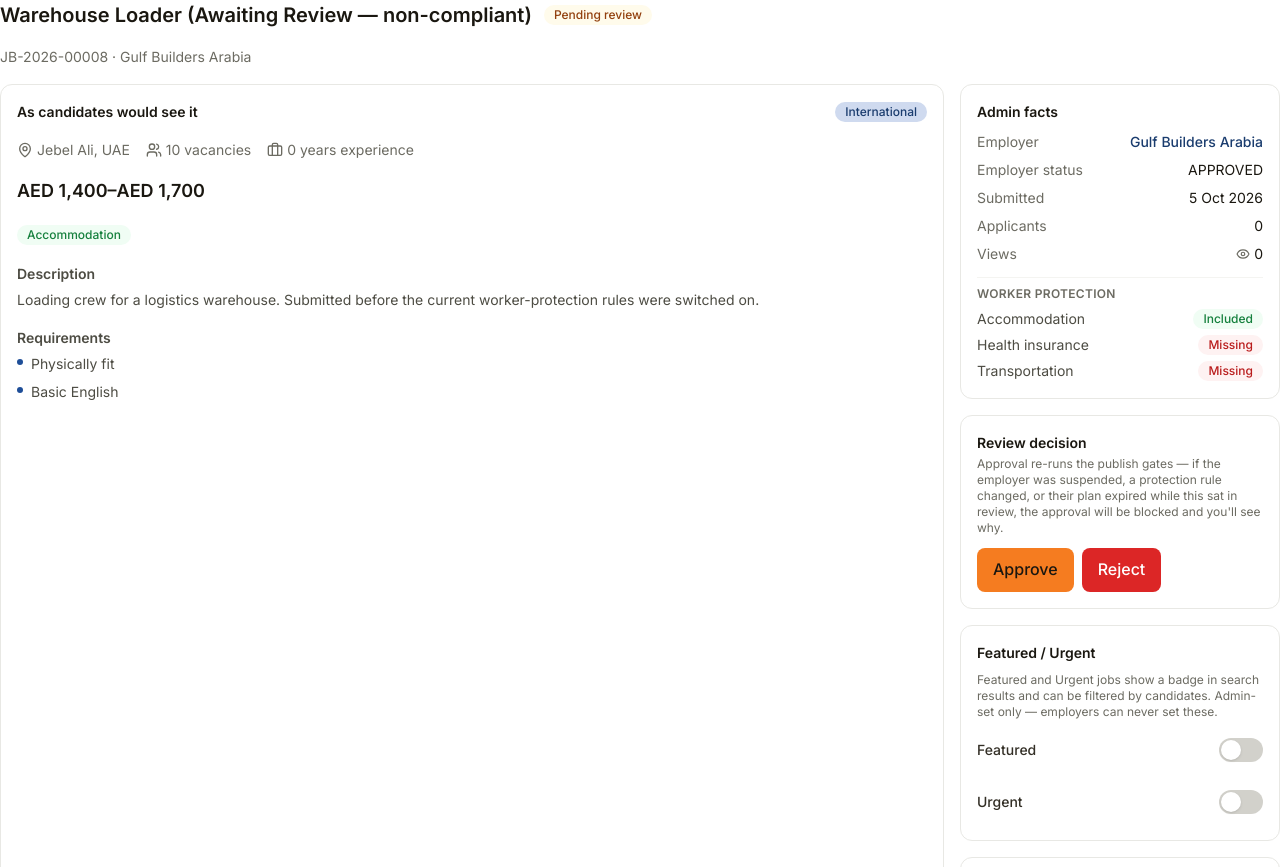
GateFailureExplainer — the three honest failures › WORKER_PROTECTION_VIOLATION → the failing RULES NAMED from meta + the inline Reject remedy
expect the heading "Warehouse Loader (Awaiting Review — non-compliant)" is shown: met, box [0, 0, 532, 30]
Click the button "Approve" at [1025, 570], box [977, 548, 1074, 592]
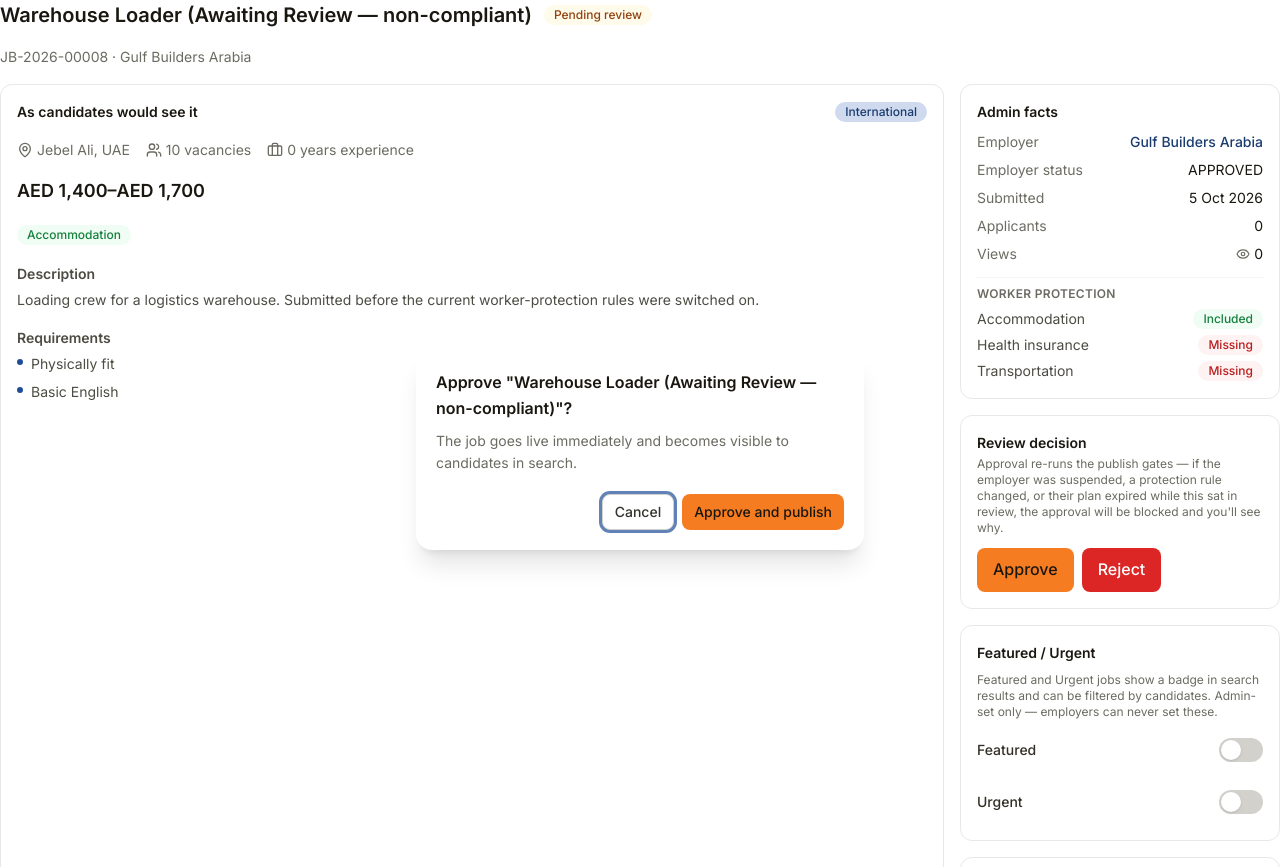
Click the button "Approve and publish" at [763, 512], box [682, 494, 844, 530]
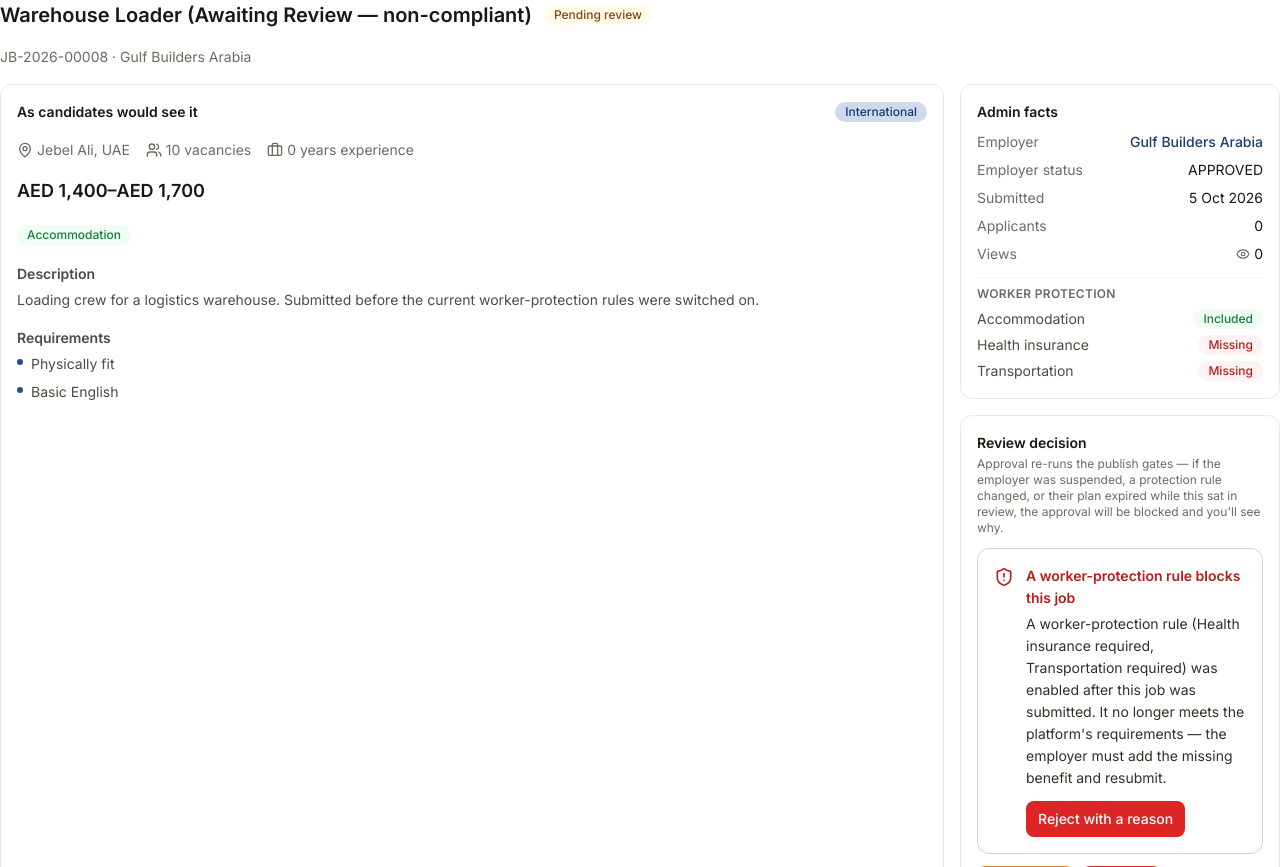
expect the text "A worker-protection rule blocks this job" is shown: met, box [1026, 565, 1246, 609]
expect the text "enabled after this job was submitted" is shown: met, box [1026, 615, 1244, 786]
Note: The remedy is offered INLINE: clicking it opens the reject dialog.
Click the button "Reject with a reason" at [1106, 819], box [1026, 801, 1185, 837]
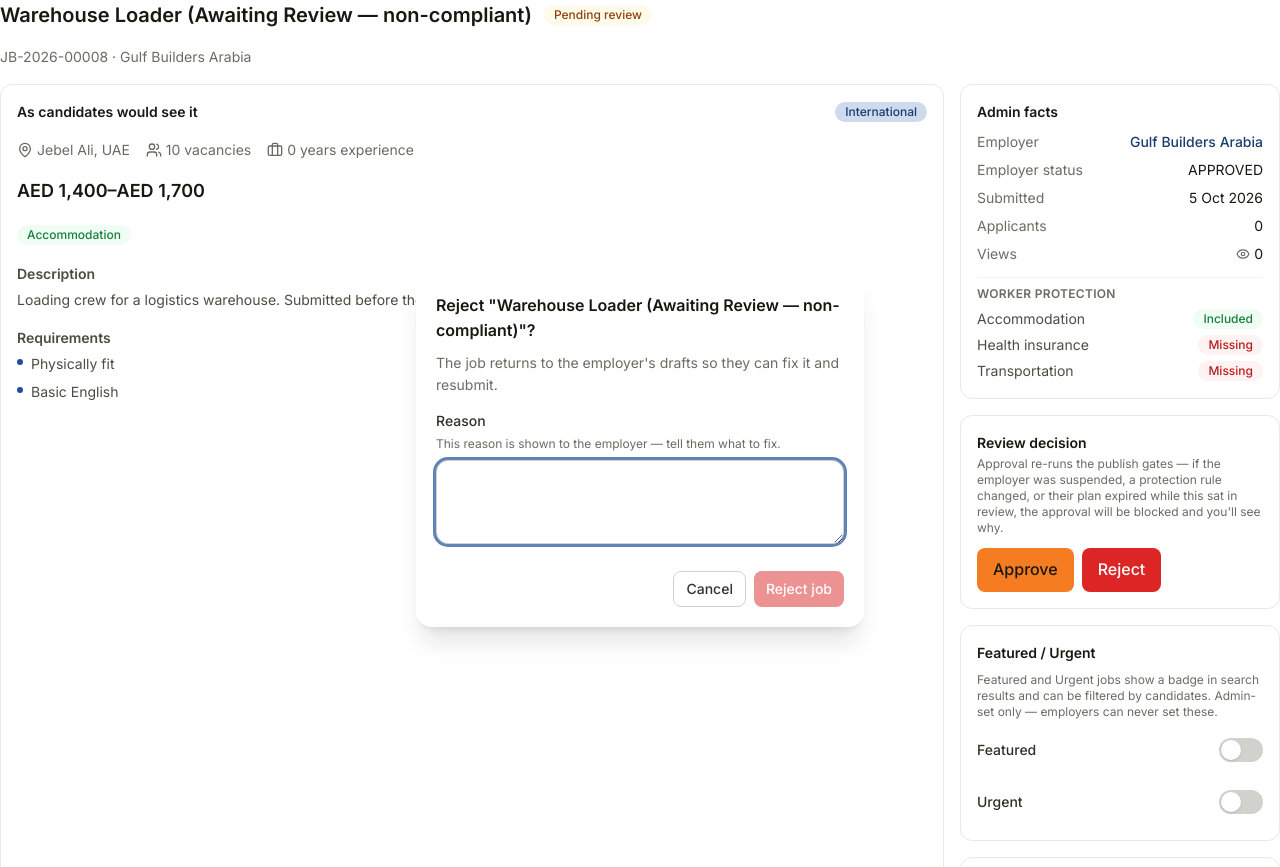
expect the dialog is shown: met, box [416, 273, 864, 627]
expect the text box labelled "Reason" is shown: met, box [436, 460, 844, 544]
